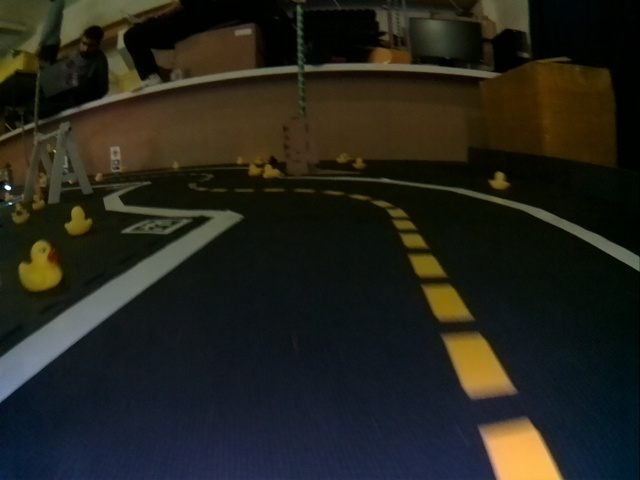Duckie: (18, 240, 62, 291), (64, 206, 91, 236), (490, 172, 510, 189), (12, 205, 28, 224), (264, 164, 280, 177), (33, 196, 44, 209), (249, 164, 259, 175), (337, 154, 347, 162), (95, 172, 102, 181), (358, 159, 365, 167)
QR code: (125, 213, 190, 237)
